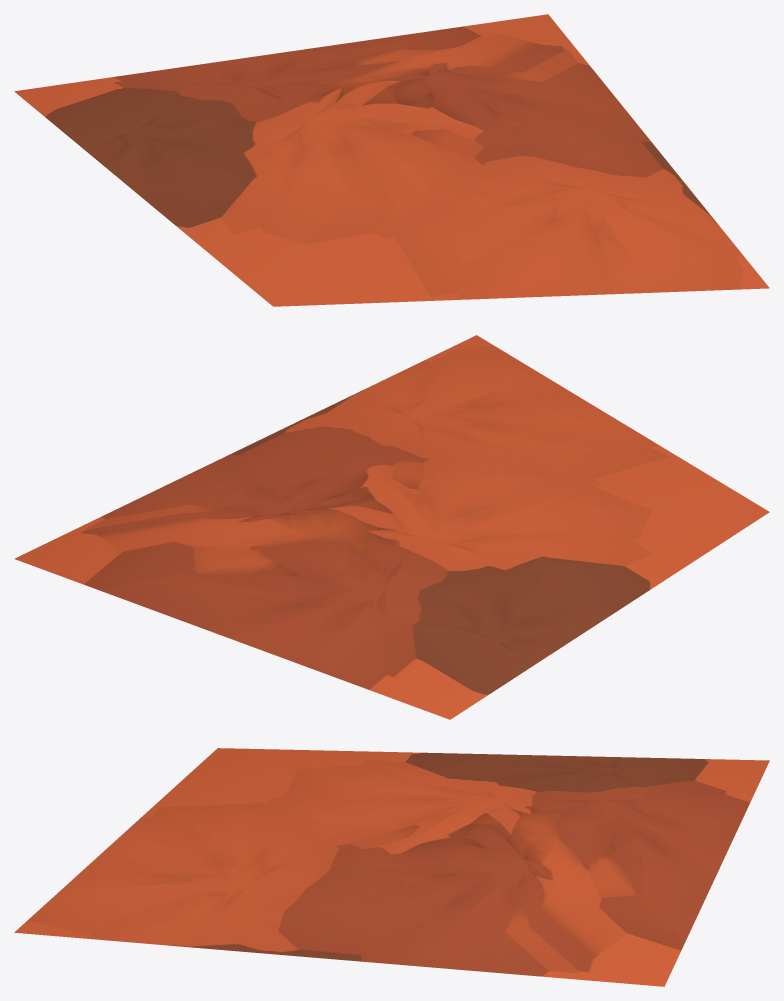
Rendered from SM_Env_Ginko_Small_01.fbx.
3 views of the same model, one above another, from view 1: azimuth 30°, elevation 25°; view 2: azimuth 150°, elevation 25°; view 3: azimuth 270°, elevation 25° (orthographic). The views are drawn at different scales.
Parts seen in each view (by area): view 1: SM_Env_Ginko_Small_01; view 2: SM_Env_Ginko_Small_01; view 3: SM_Env_Ginko_Small_01.
Boxes of the visible parts, bbox=[...] form: SM_Env_Ginko_Small_01: bbox=[14, 14, 769, 306]; SM_Env_Ginko_Small_01: bbox=[14, 335, 769, 719]; SM_Env_Ginko_Small_01: bbox=[14, 748, 769, 986].
Bounding box in the file's own units: 97.3 × 9.25 × 130.
